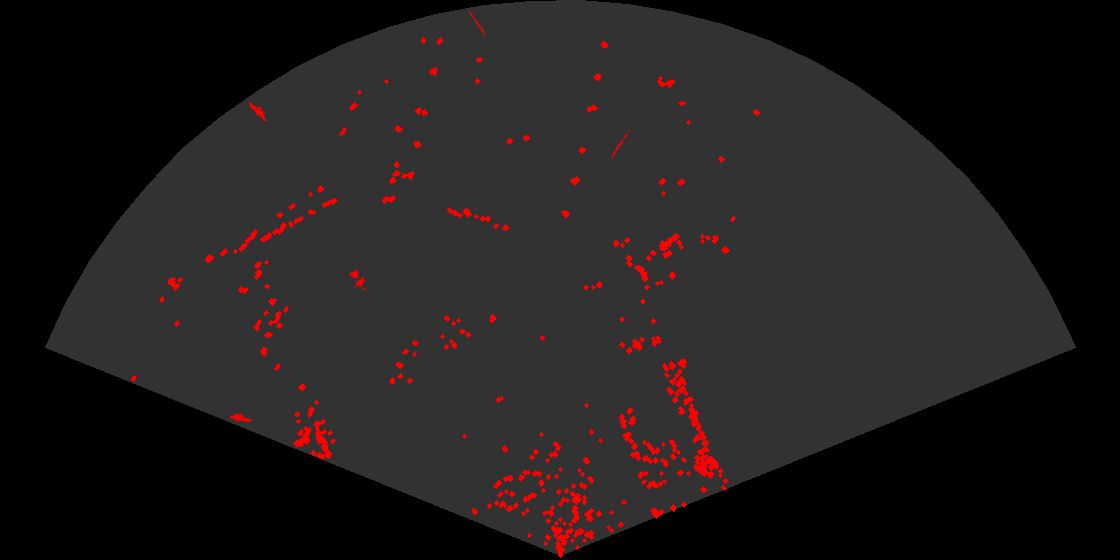cage: (348, 268, 369, 290)
chain: (609, 130, 630, 160), (468, 11, 487, 37)
frogman: (246, 98, 267, 121), (230, 411, 252, 424)
